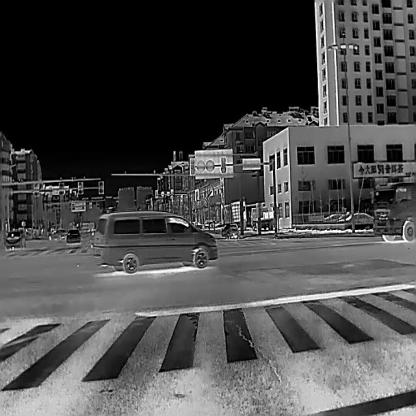car: (92, 210, 218, 273), (4, 229, 26, 250), (338, 211, 373, 221), (220, 222, 240, 238), (65, 229, 81, 245), (47, 229, 67, 240), (324, 212, 341, 220), (192, 221, 202, 228)
truck: (373, 180, 415, 242), (223, 200, 246, 228), (248, 206, 273, 228), (82, 221, 94, 231)
